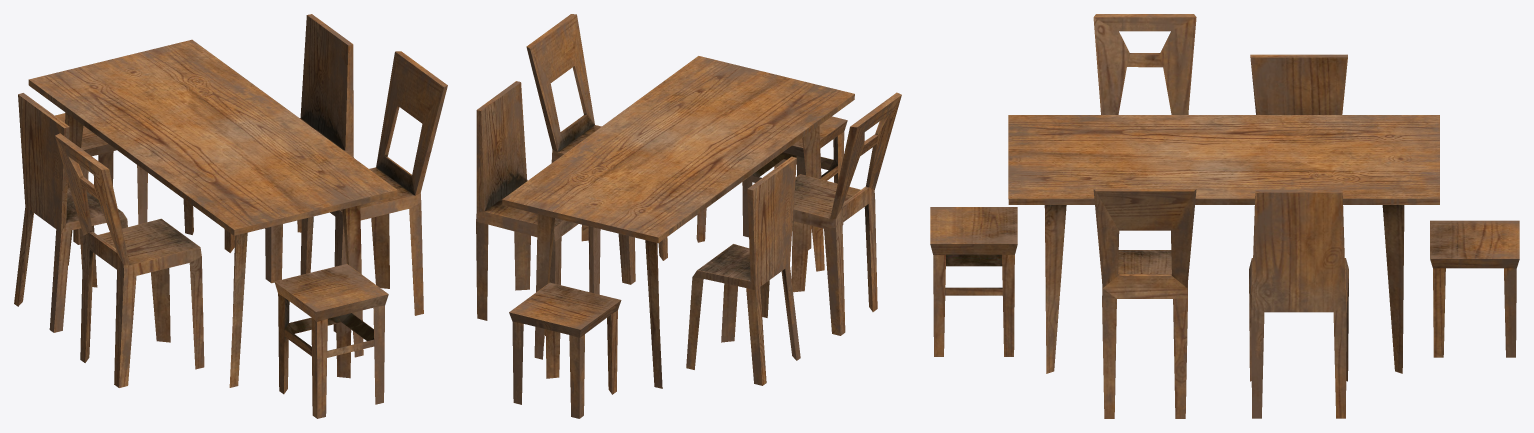
File: kitchen_table.glb
The picture shows the model from 3 angles, left to right: view 1: azimuth 30°, elevation 25°; view 2: azimuth 150°, elevation 25°; view 3: azimuth 270°, elevation 25°; orthographic projection. The views are drawn at different scales.
Visible parts, largest first — view 1: Ultra (×7); view 2: Ultra (×7); view 3: Ultra (×7).
Boxes of the visible parts, <box> form: Ultra (×7): <box>14,14,447,418</box>; Ultra (×7): <box>476,14,901,418</box>; Ultra (×7): <box>930,14,1519,418</box>.
Size of the model in its own units: 2073 by 1296 by 2910.
1 material, 1 textured.
